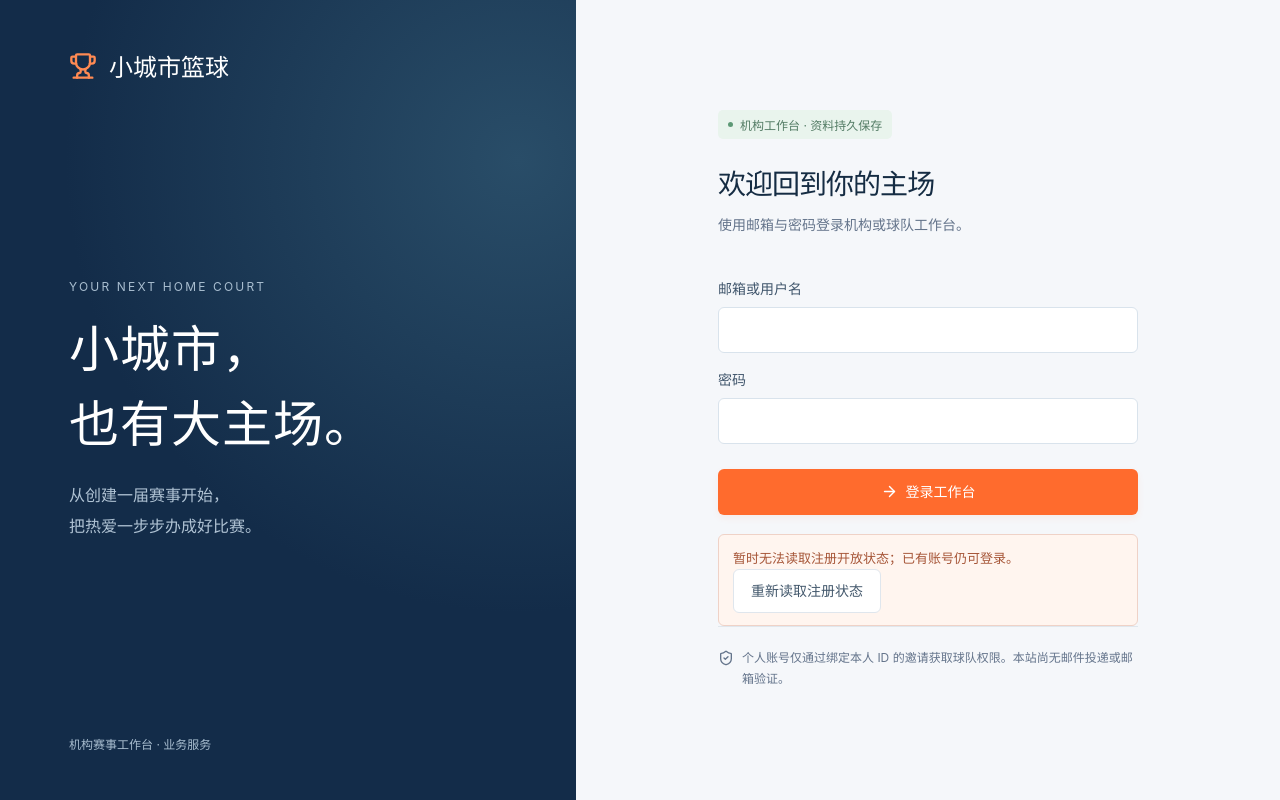
it: independent signed-out registration capabilities › does not grant registration for an incomplete success and still permits an actual login
Expected: the message "暂时无法读取注册开放状态；已有账号仍可登录。 重新读取注册状态" is shown, [718,534,1138,626]
Type "leader@example.test" into the field labelled "邮箱或用户名" at [928, 330], box [718,307,1138,353]
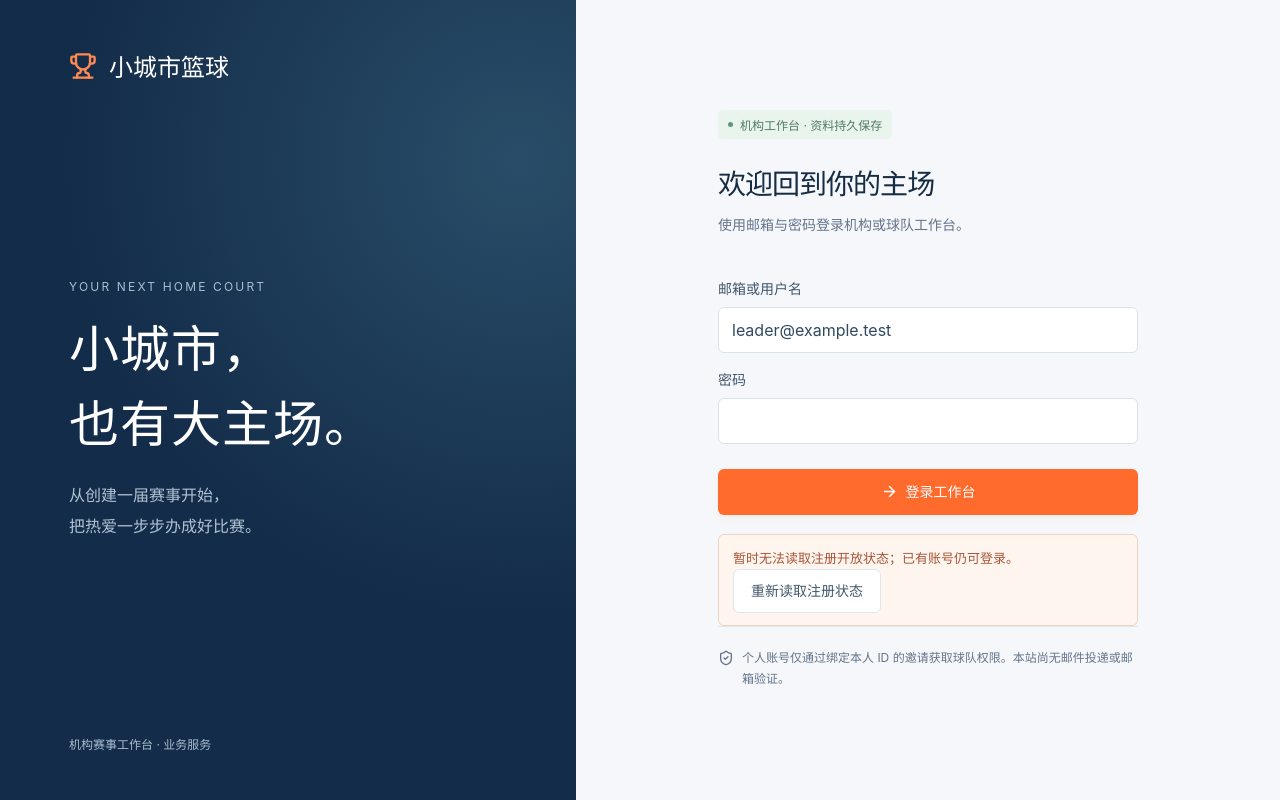
Type "correct-password" into the password field labelled "密码" at [928, 421], box [718,398,1138,444]
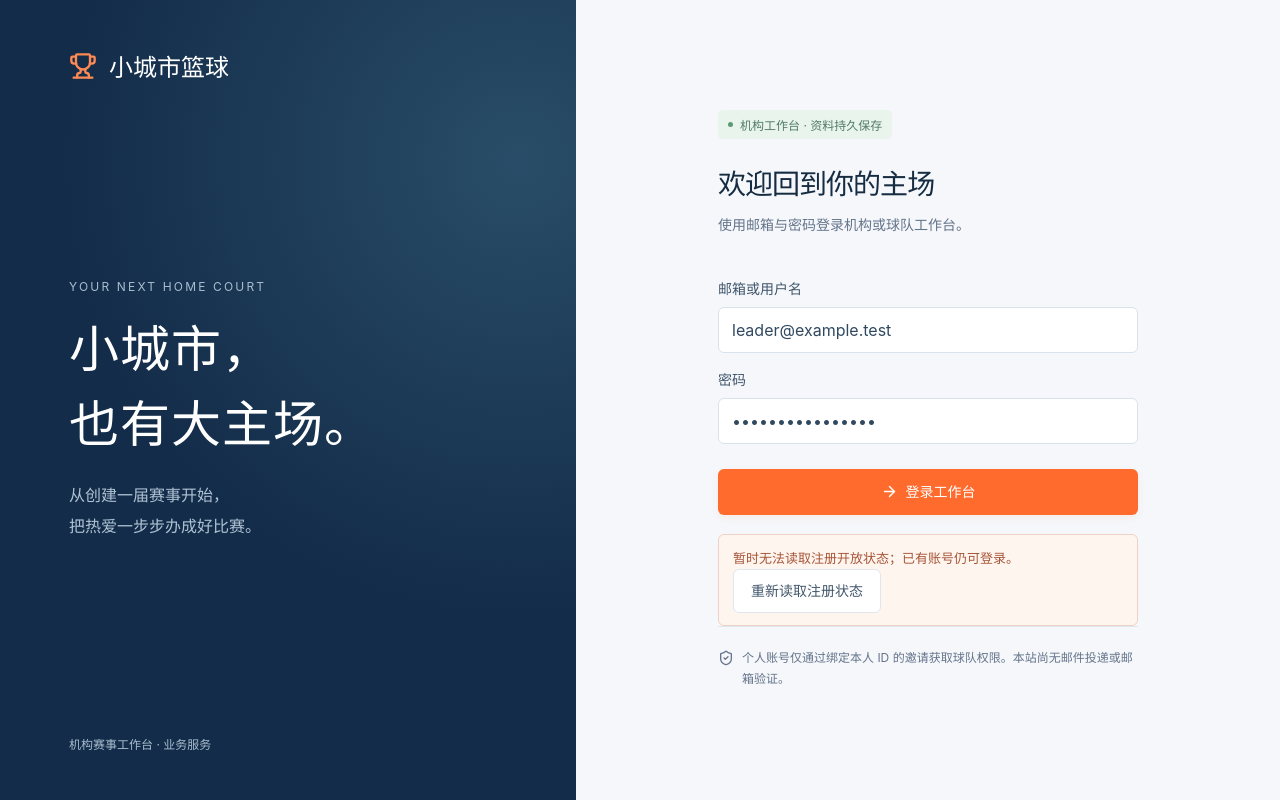
Click the button "登录工作台" at [928, 492], box [718,469,1138,515]
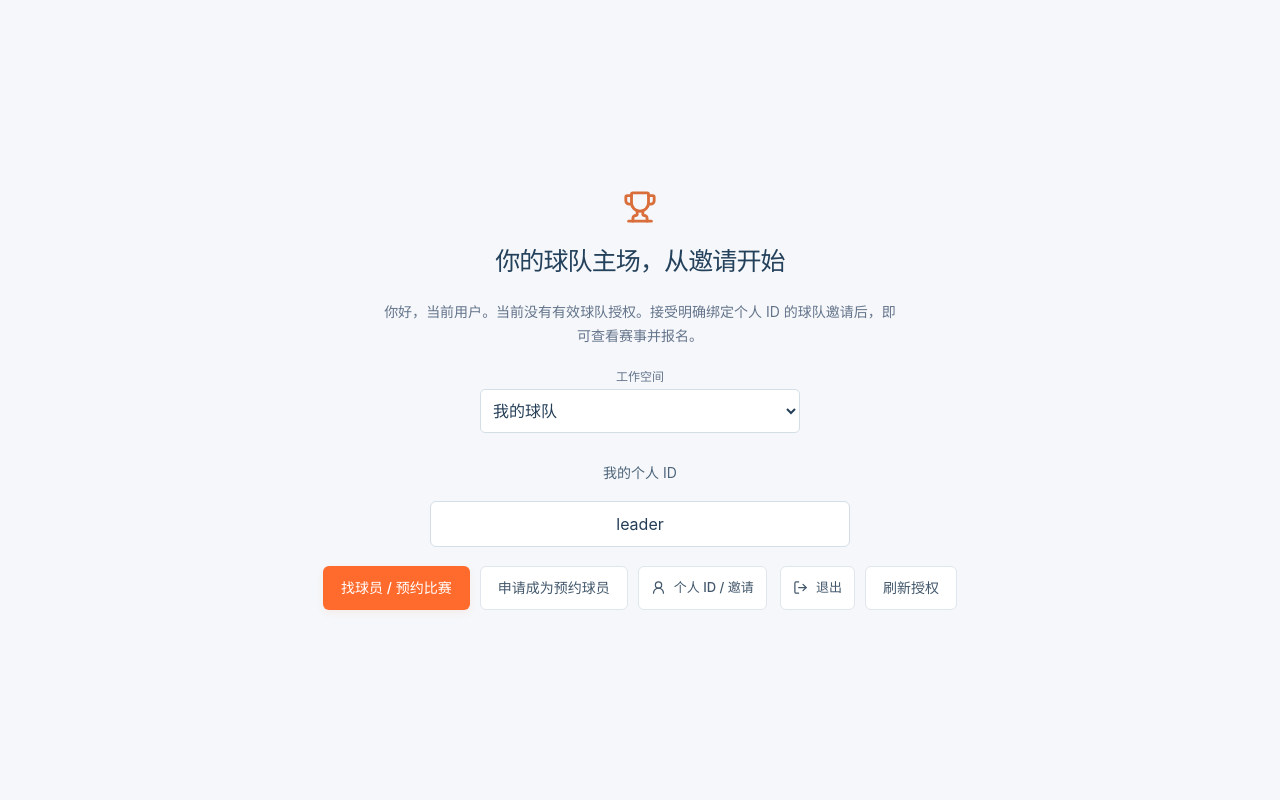
Expected: the heading "你的球队主场，从邀请开始" is shown, [495,244,785,281]
